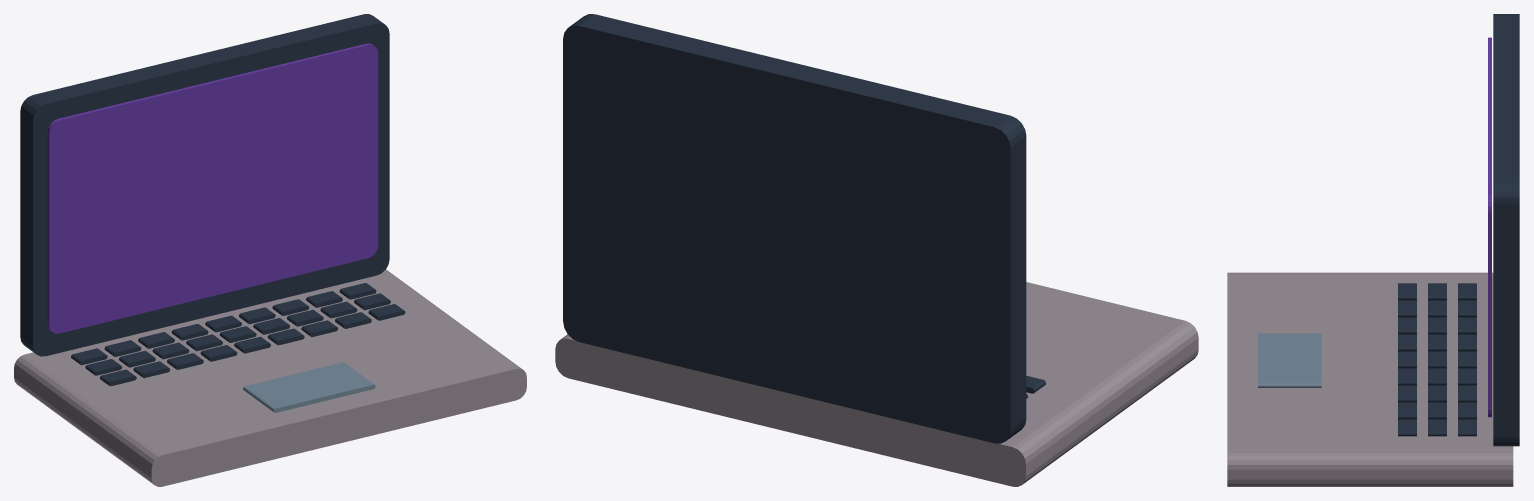
Rendered from laptop.glb.
3 renders of one model, left to right at view 1: azimuth 30°, elevation 25°; view 2: azimuth 150°, elevation 25°; view 3: azimuth 270°, elevation 25°, orthographic. The views are drawn at different scales.
Visible parts, largest first — view 1: display glass, base, display bezel, trackpad; view 2: display bezel, base; view 3: base, display bezel, trackpad, display glass, key 0-0, key 0-1, key 0-2, key 0-3, key 0-4, key 0-5, key 0-6, key 0-7 (+19 smaller).
Boxes of the visible parts, <box> form: display glass: <box>47,43,378,333</box>; base: <box>14,269,526,486</box>; display bezel: <box>20,14,389,356</box>; trackpad: <box>243,362,375,412</box>; display bezel: <box>563,14,1026,443</box>; base: <box>555,282,1198,486</box>; base: <box>1227,272,1513,486</box>; display bezel: <box>1493,14,1519,446</box>; trackpad: <box>1258,333,1321,387</box>; display glass: <box>1488,37,1491,417</box>; key 0-0: <box>1458,283,1476,300</box>; key 0-1: <box>1458,300,1476,317</box>; key 0-2: <box>1458,317,1476,334</box>; key 0-3: <box>1458,334,1476,351</box>; key 0-4: <box>1458,351,1476,368</box>; key 0-5: <box>1458,368,1476,385</box>; key 0-6: <box>1458,385,1476,402</box>; key 0-7: <box>1458,402,1476,419</box>.
Size of the model in its own units: 1.62 by 1.18 by 1.05.
